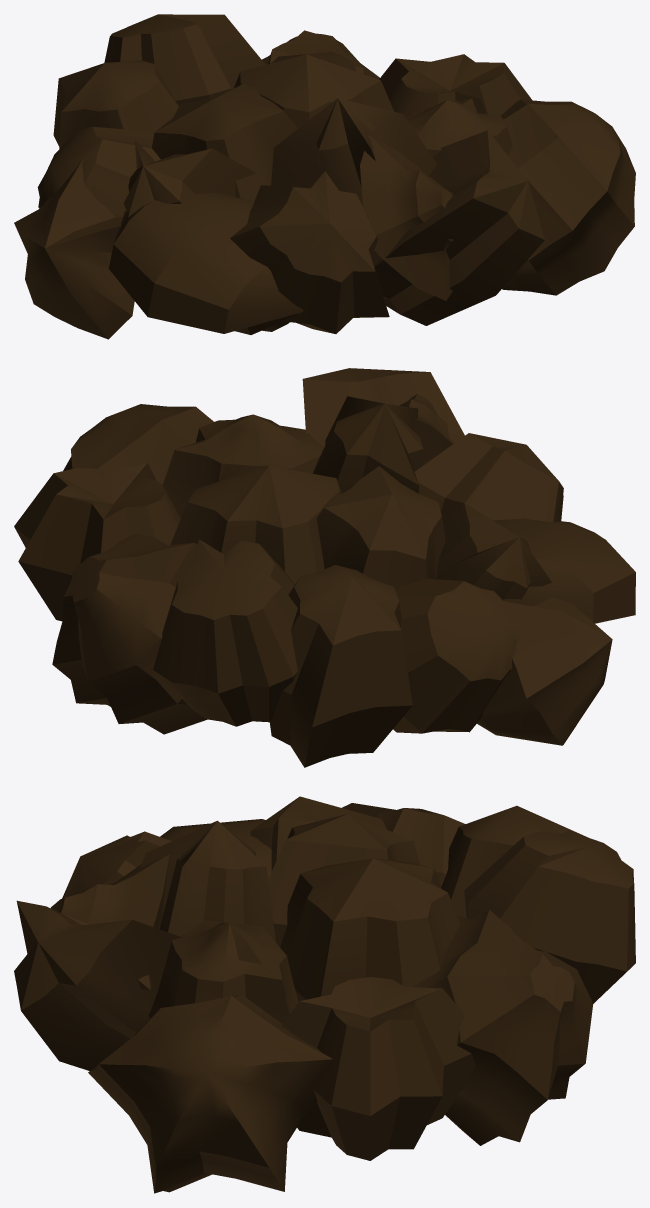
Rendered from expRockPile.fbx.
3 renders of one model, top to bottom at view 1: azimuth 30°, elevation 25°; view 2: azimuth 150°, elevation 25°; view 3: azimuth 270°, elevation 25°, orthographic. The views are drawn at different scales.
Visible parts, largest first — view 1: rock15, rock5, rock9, rock16, rock1, rock4, rock14, rock13, rock3, rock10, rock6, rock2 (+4 smaller); view 2: rock10, rock4, rock11, rock8, rock2, rock1, rock6, rock13, rock16, rock5, rock7, rock14 (+4 smaller); view 3: rock15, rock11, rock2, rock6, rock9, rock4, rock14, rock7, rock13, rock10, rock3, rock16 (+3 smaller).
Boxes of the visible parts, x1=… form: rock15: x1=500, y1=99, x2=635, y2=295; rock5: x1=108, y1=193, x2=303, y2=334; rock9: x1=374, y1=130, x2=544, y2=325; rock16: x1=230, y1=160, x2=389, y2=333; rock1: x1=14, y1=157, x2=134, y2=339; rock4: x1=104, y1=14, x2=265, y2=105; rock14: x1=271, y1=98, x2=437, y2=201; rock13: x1=152, y1=83, x2=297, y2=201; rock3: x1=360, y1=135, x2=453, y2=300; rock10: x1=53, y1=60, x2=178, y2=148; rock6: x1=234, y1=52, x2=393, y2=128; rock2: x1=379, y1=54, x2=531, y2=117; rock10: x1=269, y1=565, x2=412, y2=767; rock4: x1=153, y1=539, x2=297, y2=726; rock11: x1=52, y1=534, x2=207, y2=734; rock8: x1=393, y1=578, x2=519, y2=733; rock2: x1=14, y1=463, x2=180, y2=621; rock1: x1=477, y1=597, x2=612, y2=745; rock6: x1=170, y1=465, x2=341, y2=583; rock13: x1=316, y1=466, x2=445, y2=590; rock16: x1=414, y1=433, x2=563, y2=522; rock5: x1=493, y1=518, x2=635, y2=623; rock7: x1=162, y1=414, x2=324, y2=518; rock14: x1=313, y1=396, x2=423, y2=493; rock15: x1=88, y1=994, x2=335, y2=1193; rock11: x1=412, y1=909, x2=593, y2=1145; rock2: x1=282, y1=977, x2=475, y2=1160; rock6: x1=280, y1=858, x2=459, y2=1001; rock9: x1=14, y1=900, x2=181, y2=1070; rock4: x1=464, y1=830, x2=635, y2=1003; rock14: x1=140, y1=820, x2=275, y2=941; rock7: x1=148, y1=920, x2=298, y2=1023; rock13: x1=268, y1=814, x2=420, y2=947; rock10: x1=441, y1=805, x2=586, y2=917; rock3: x1=51, y1=853, x2=169, y2=990; rock16: x1=62, y1=831, x2=171, y2=898.
Bounding box in the file's own units: 297 × 122 × 262.
